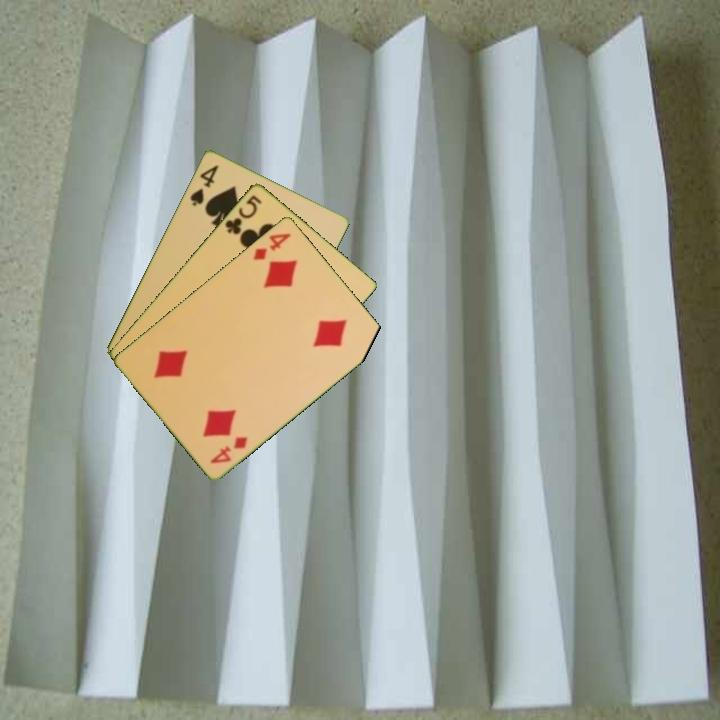4d: (250, 229, 294, 263), (207, 432, 250, 466)
4s: (186, 161, 221, 209)
5c: (221, 191, 265, 237)
